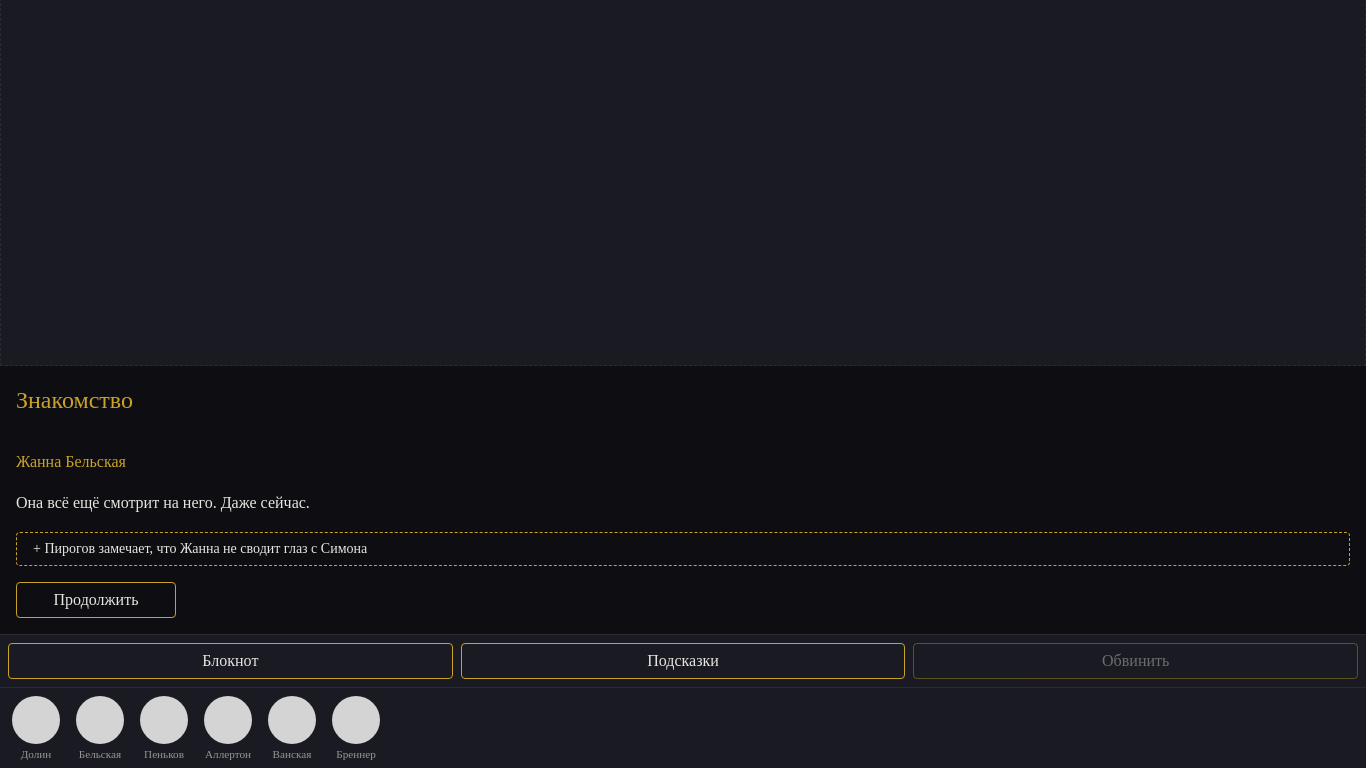
SceneScreen: narration/dialogue › тап на спане → notes содержит n_ch1_01_01, кнопка disabled
(page scrolled)
Click the button "+ Пирогов замечает, что Жанна не сводит глаз с Симона": (206, 548) [16,532,1350,566]
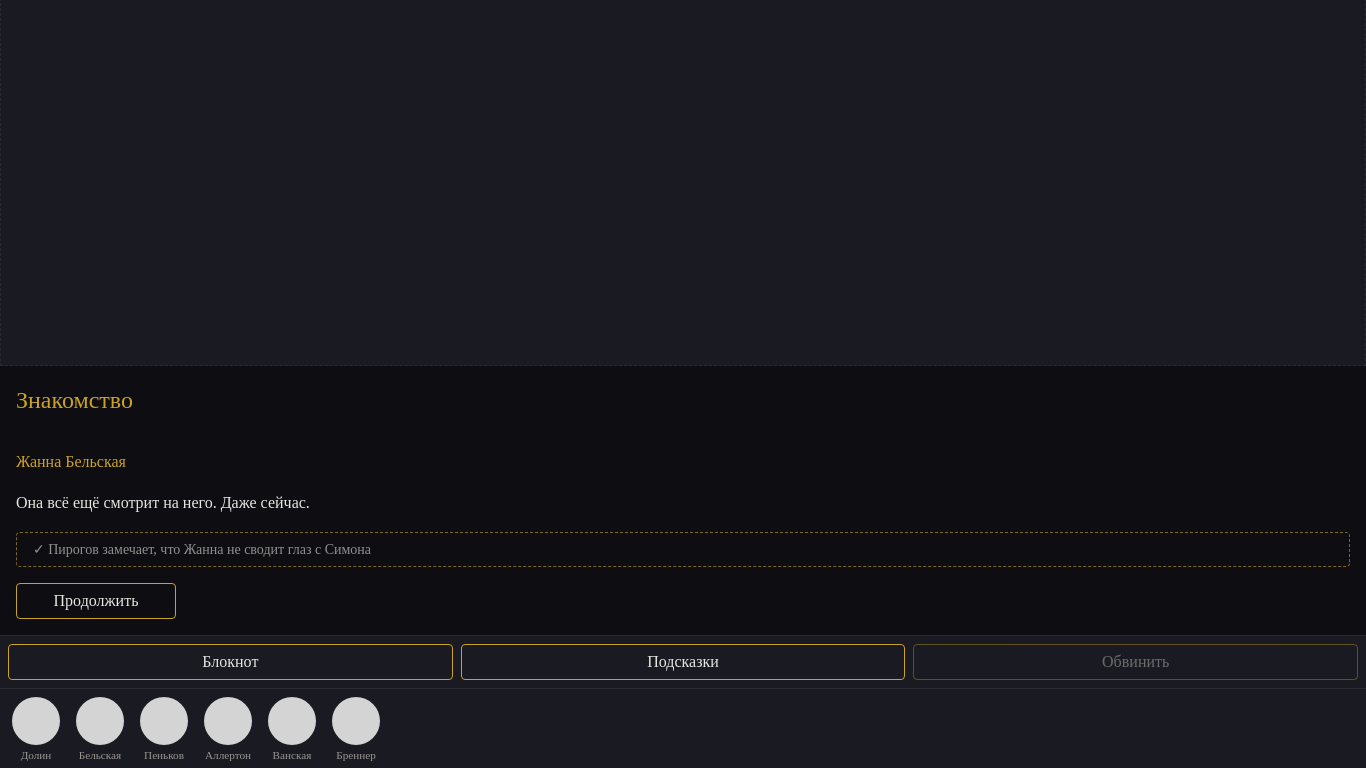
Now the button "✓ Пирогов замечает, что Жанна не сводит глаз с Симона" is disabled, box [16,532,1350,567]
